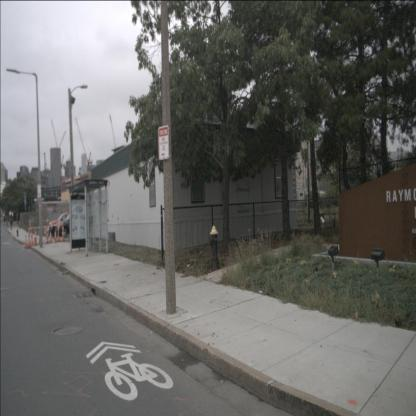human-pedestrian-adult: (9, 214, 13, 230)
movable_object-trafficcone: (45, 223, 50, 244), (56, 223, 61, 242), (61, 223, 66, 242), (24, 234, 28, 249), (28, 232, 32, 247), (34, 230, 38, 245), (30, 230, 34, 245), (49, 232, 53, 243), (54, 232, 57, 242)
vehicle-car: (48, 212, 83, 238), (54, 213, 88, 238)
